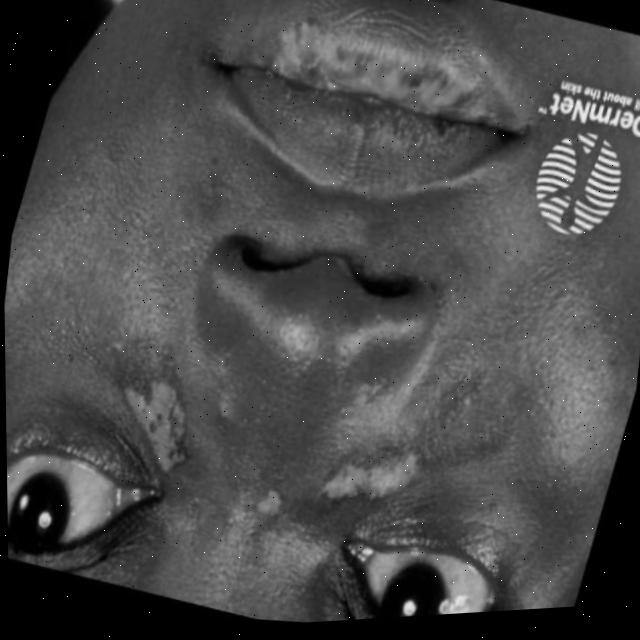Eczema: (281, 0, 506, 165), (329, 362, 478, 526), (95, 363, 177, 454)
